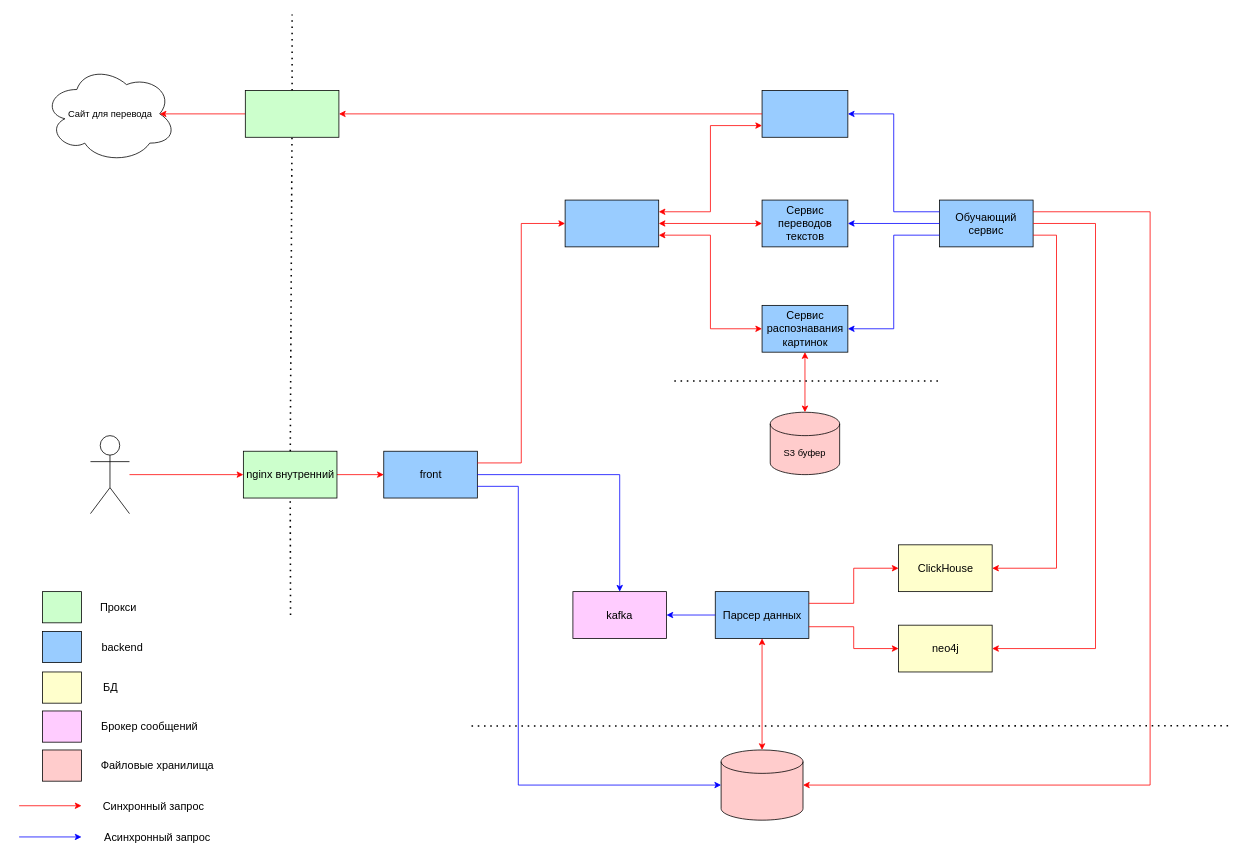
The diagram is 1243 pixels wide and 862 high, and some of its shapes have lost their labels. Each missing label, with the box of its shape:
front переводов: (564, 199, 659, 247)
nginx внешний: (245, 90, 339, 137)
S3 хранилище: (720, 749, 803, 820)
Клиент: (90, 435, 129, 514)
Парсер web-страниц: (761, 90, 848, 137)
